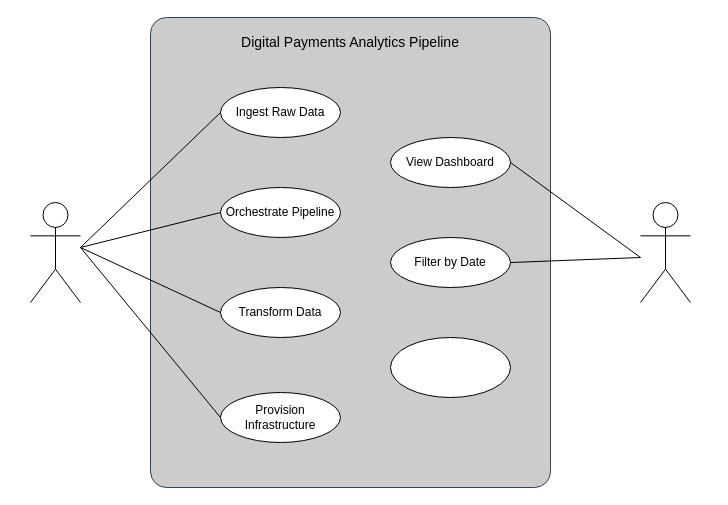
Some shapes in this 728 by 505 pixel diagram are drawn without their labels. The centre of each missing label's shape, as x and y in pixels:
"Business Analyst" belongs at pixel 665 252.
"Data Engineer" belongs at pixel 55 252.
"Simulate Streaming (kafka - system)" belongs at pixel 450 367.
